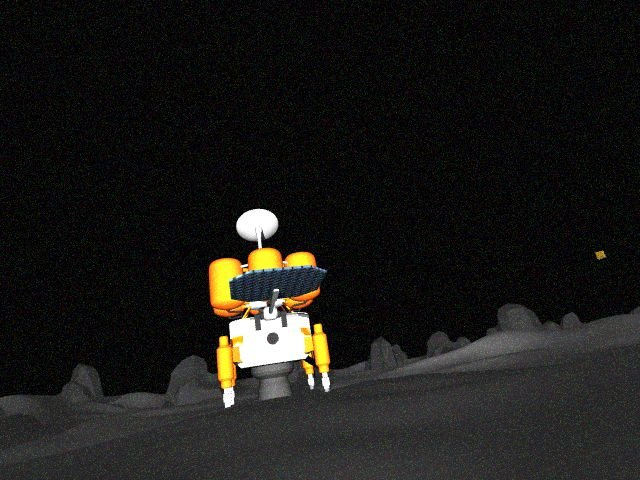homebase: (206, 207, 332, 410)
